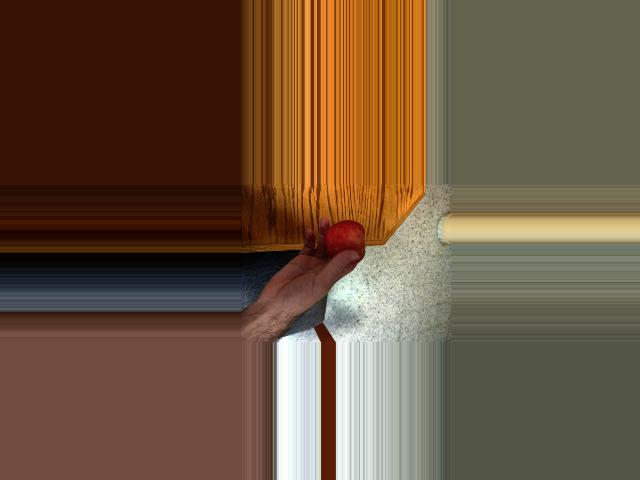apple: (323, 221, 368, 264)
